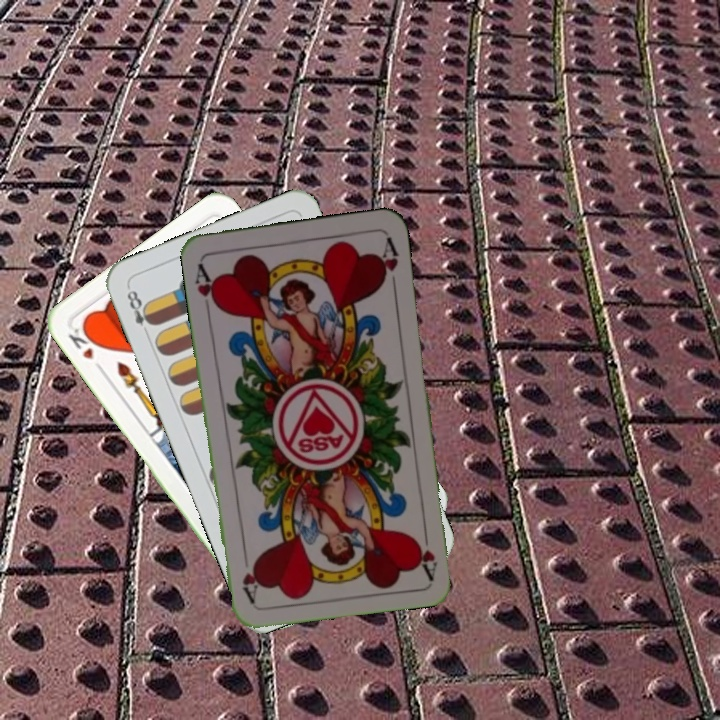E8: (122, 283, 158, 340)
HA: (191, 259, 222, 316), (412, 521, 440, 580)
HK: (64, 318, 107, 375)
